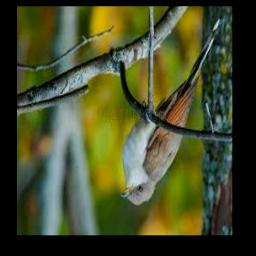Cuckoo: (120, 20, 221, 206)
